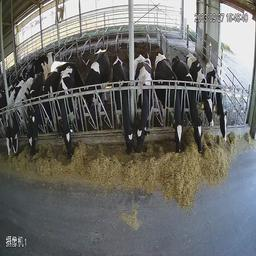cow: (153, 49, 187, 156), (174, 49, 208, 152), (132, 50, 160, 159), (54, 56, 81, 165), (108, 53, 136, 156), (38, 42, 62, 148), (3, 69, 30, 163), (190, 44, 214, 137), (23, 58, 43, 164), (81, 40, 110, 112), (210, 61, 236, 136)
